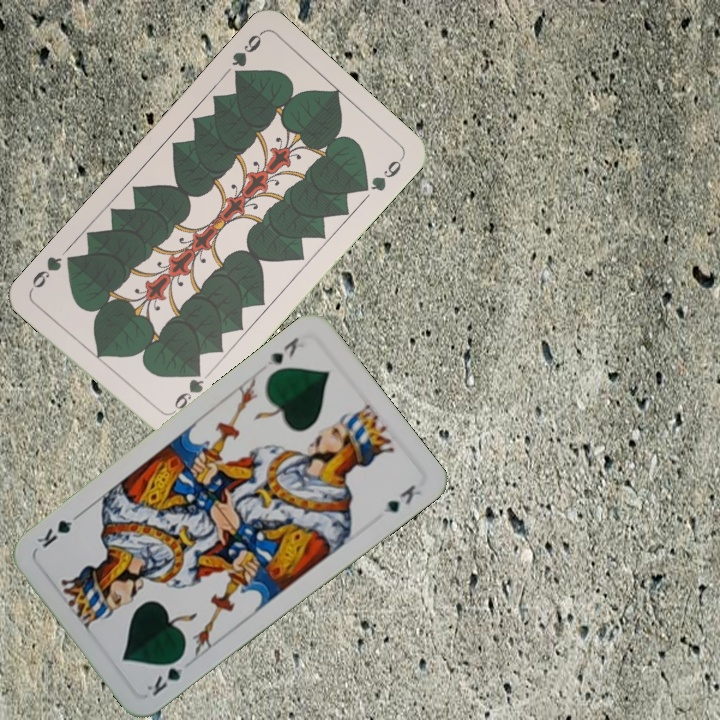G9: (165, 364, 207, 417), (227, 28, 265, 84)
GK: (142, 651, 187, 699), (263, 333, 302, 368)
